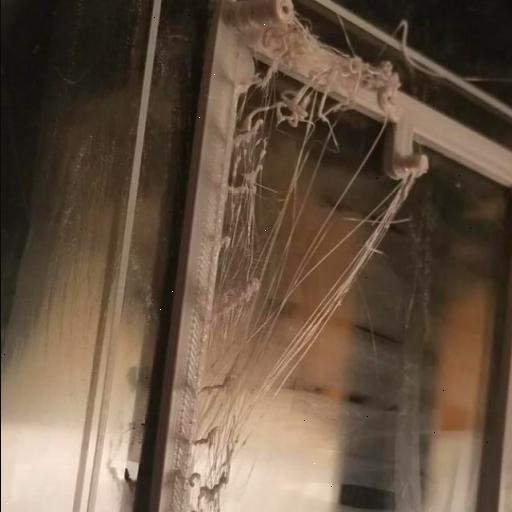stringing: (207, 181, 416, 453), (254, 88, 340, 330), (186, 388, 232, 506), (212, 276, 258, 384), (234, 111, 272, 180), (230, 186, 256, 276)
